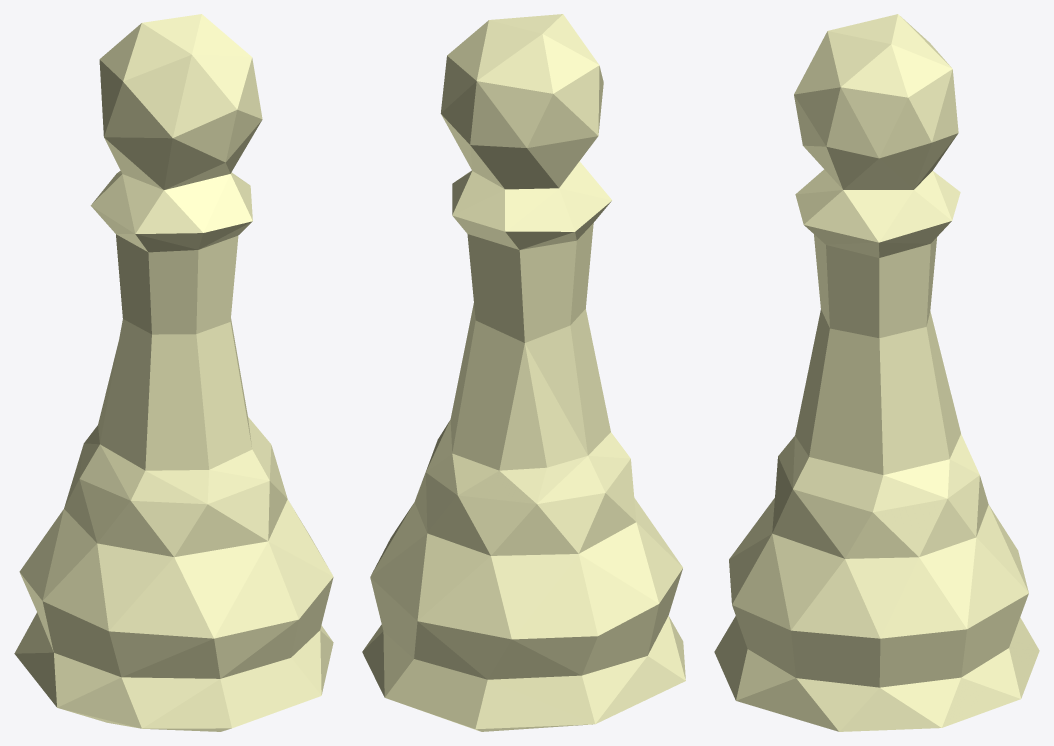
File: pawn_lt.fbx
3 renders of one model, left to right at view 1: azimuth 30°, elevation 25°; view 2: azimuth 150°, elevation 25°; view 3: azimuth 270°, elevation 25°, orthographic.
Parts seen in each view (by area): view 1: Pawn_LT; view 2: Pawn_LT; view 3: Pawn_LT.
Boxes of the visible parts, <box> form: Pawn_LT: <box>14,14,333,731</box>; Pawn_LT: <box>362,14,685,731</box>; Pawn_LT: <box>714,14,1039,731</box>.
Bounding box in the file's own units: 1.11 × 2.54 × 1.14.
